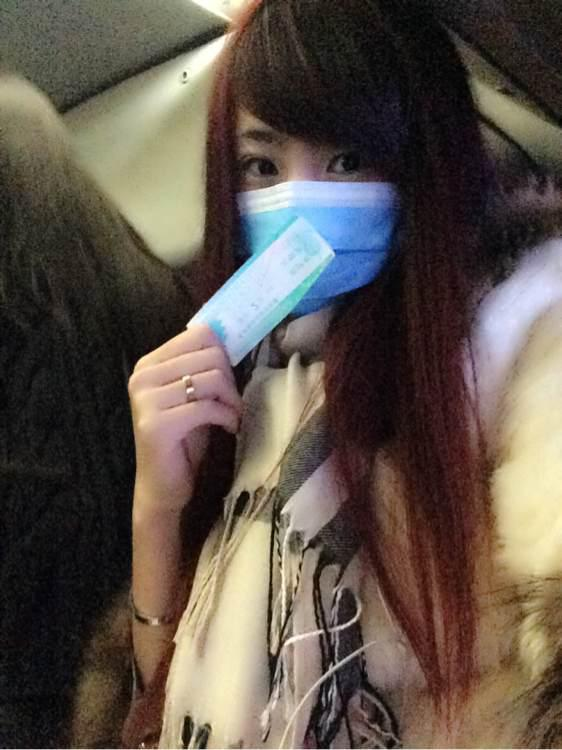OK: (231, 108, 438, 315)
